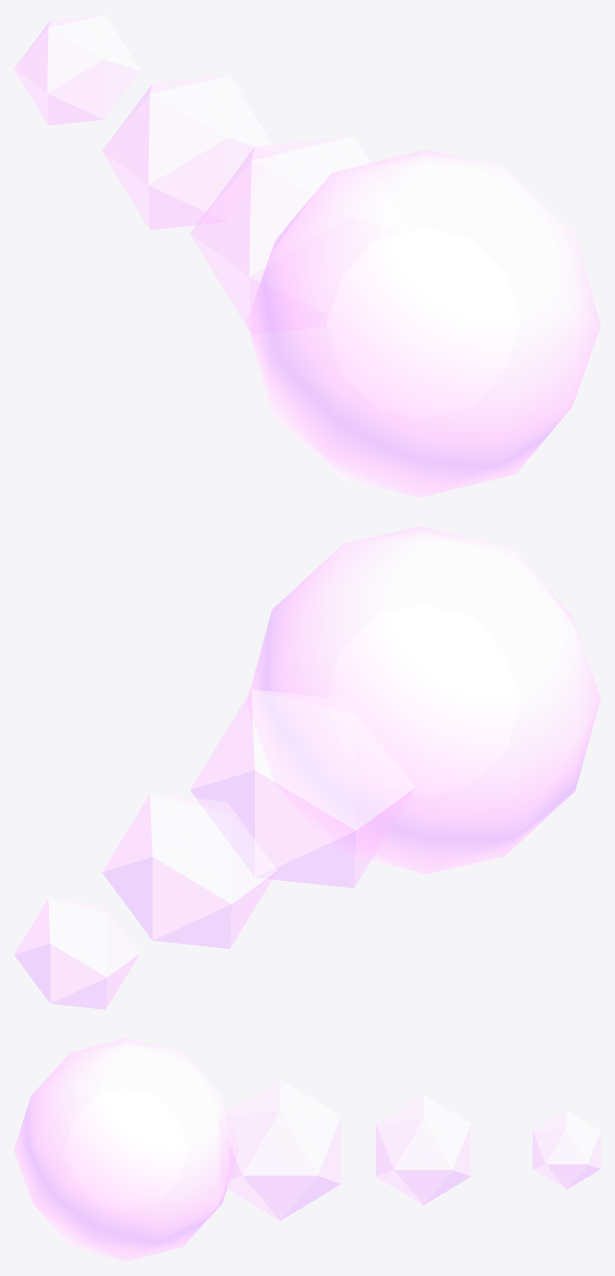
The model's file is fx_magic_bolt.glb.
The picture shows the model from 3 angles, top to bottom: view 1: azimuth 30°, elevation 25°; view 2: azimuth 150°, elevation 25°; view 3: azimuth 270°, elevation 25°; orthographic projection. The views are drawn at different scales.
Visible parts, largest first — view 1: shot_orbGlow, shot_orbCore, trail0_trailGlow, trail1_trailGlow, trail2_trailGlow; view 2: shot_orbGlow, trail0_trailGlow, shot_orbCore, trail1_trailGlow, trail2_trailGlow; view 3: shot_orbGlow, trail0_trailGlow, shot_orbCore, trail1_trailGlow, trail2_trailGlow.
Boxes of the visible parts, x1,y1,x2,y2 form: shot_orbGlow: [246, 149, 600, 497]; shot_orbCore: [326, 228, 520, 418]; trail0_trailGlow: [190, 135, 411, 333]; trail1_trailGlow: [102, 75, 277, 229]; trail2_trailGlow: [14, 14, 139, 125]; shot_orbGlow: [247, 526, 600, 874]; trail0_trailGlow: [190, 689, 415, 888]; shot_orbCore: [327, 605, 520, 795]; trail1_trailGlow: [102, 794, 277, 948]; trail2_trailGlow: [14, 898, 139, 1009]; shot_orbGlow: [14, 1038, 238, 1261]; trail0_trailGlow: [220, 1079, 340, 1220]; shot_orbCore: [65, 1089, 188, 1210]; trail1_trailGlow: [376, 1094, 470, 1205]; trail2_trailGlow: [532, 1110, 600, 1189].
Bounding box in the file's own units: 0.22 × 0.22 × 0.5733.
